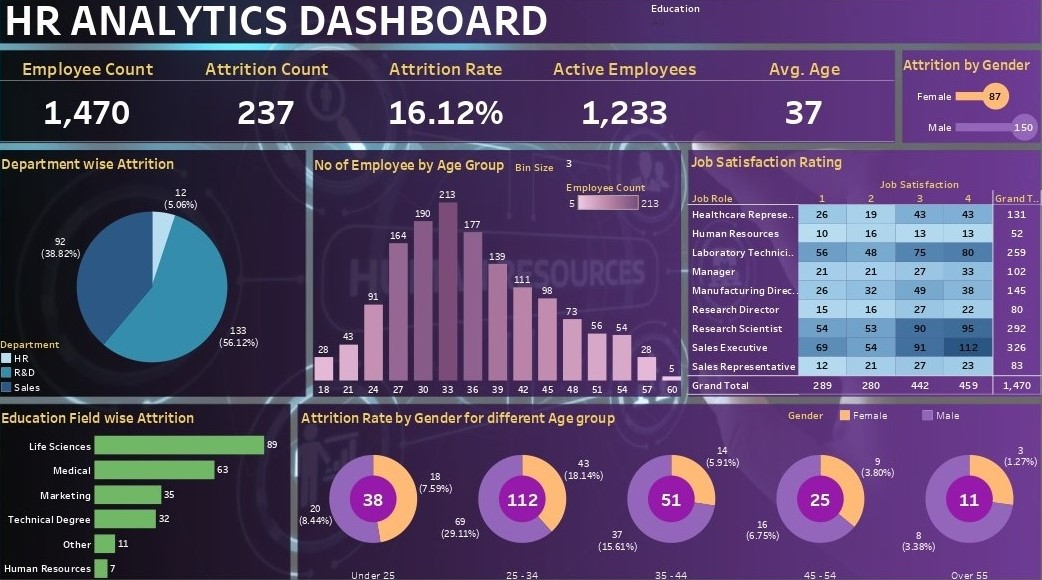

The page's visual inventory and layout, read from the dashboard file:
{"tool":"tableau","page":{"name":"HR ANALYTICS DASHBOARD","canvas":[1580,880],"ordinal":0},"visuals":[{"type":"image","param":"C:/Users/bless/Downloads/55/HR background.pptx.png","box":[8,8,1564,864]},{"type":"text","box":[39,15,851,66]},{"type":"filter","title":"Attrition Rate by Gender for different Age group","param":"[federated.05wgdbp02mlanq182ezth13xxdkw].[none:Education:nk]","box":[979,22,221,61]},{"type":"worksheet","title":"Attrition by Gender","mark":"Automatic","rows":["Gender"],"cols":["Calculation_553098380974260224","Calculation_553098380974260224"],"box":[1341,95,204,133]},{"type":"worksheet","title":"KPI","mark":"Automatic","box":[33,98,1300,130]},{"type":"worksheet","title":"Job Satisfaction Rating","mark":"Square","rows":["Job Role"],"cols":["Job Satisfaction"],"box":[1033,235,513,359]},{"type":"worksheet","title":"Department wise Attrition","mark":"Pie","box":[34,238,445,356]},{"type":"worksheet","title":"No of Employee by Age Group","mark":"Automatic","rows":["Employee Count"],"cols":["Age (bin)"],"box":[487,240,541,355]},{"type":"parameter","param":"[Parameters].[Parameter 1]","box":[783,247.4,241,31.3]},{"type":"legend","title":"No of Employee by Age Group","param":"[federated.05wgdbp02mlanq182ezth13xxdkw].[sum:Employee Count:qk]","box":[857,277.7,140,50.8]},{"type":"legend","title":"Department wise Attrition","param":"[federated.05wgdbp02mlanq182ezth13xxdkw].[none:Department:nk]","box":[35,508,139,89]},{"type":"worksheet","title":"Education Field wise Attrition","mark":"Automatic","rows":["Education Field"],"cols":["Calculation_553098380974260224"],"box":[33,606,425,257]},{"type":"worksheet","title":"Attrition Rate by Gender for different Age group","mark":"Pie","rows":["Calculation_553098381019045892","Calculation_553098381019045892"],"cols":["CF_age band"],"box":[469,606,1080,259]},{"type":"legend","title":"Attrition Rate by Gender for different Age group","param":"[federated.05wgdbp02mlanq182ezth13xxdkw].[none:Gender:nk]","box":[1178,613,359,32]}]}

Visuals, with their boxes in screenshot pixels (x1, y1, x2, y2), scaled from the page's 1580x880 canvas onto the 1042x580 screenshot:
image: x1=5, y1=5, x2=1037, y2=575
text: x1=26, y1=10, x2=587, y2=53
"Attrition Rate by Gender for different Age group" filter: x1=646, y1=14, x2=791, y2=55
"Attrition by Gender" worksheet: x1=884, y1=63, x2=1019, y2=150
"KPI" worksheet: x1=22, y1=65, x2=879, y2=150
"Job Satisfaction Rating" worksheet (Square marks): x1=681, y1=155, x2=1020, y2=392
"Department wise Attrition" worksheet (Pie marks): x1=22, y1=157, x2=316, y2=392
"No of Employee by Age Group" worksheet: x1=321, y1=158, x2=678, y2=392
parameter: x1=516, y1=163, x2=675, y2=184
"No of Employee by Age Group" legend: x1=565, y1=183, x2=658, y2=217
"Department wise Attrition" legend: x1=23, y1=335, x2=115, y2=393
"Education Field wise Attrition" worksheet: x1=22, y1=399, x2=302, y2=569
"Attrition Rate by Gender for different Age group" worksheet (Pie marks): x1=309, y1=399, x2=1022, y2=570
"Attrition Rate by Gender for different Age group" legend: x1=777, y1=404, x2=1014, y2=425
